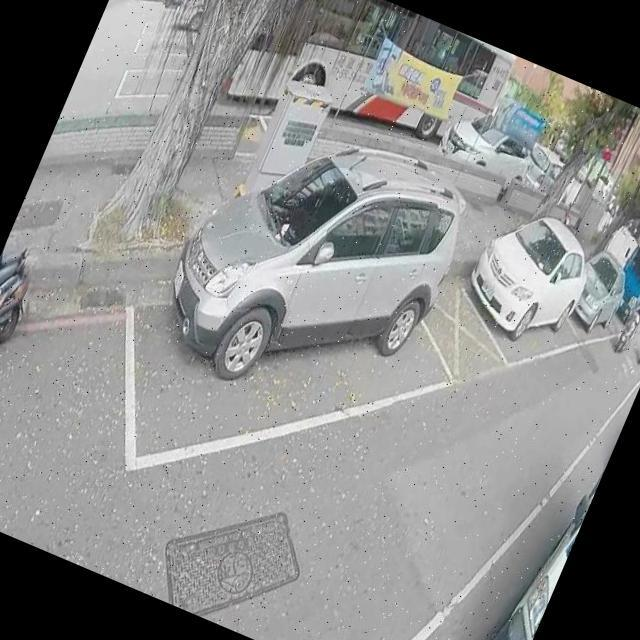person: (0, 163, 50, 400), (622, 291, 640, 338)
